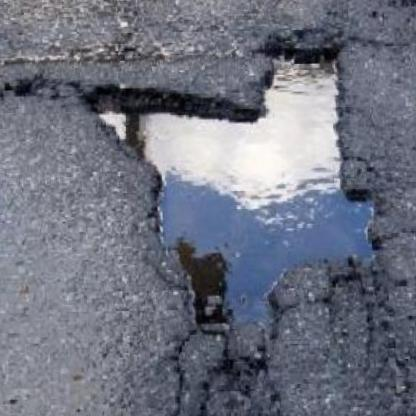pothole: (78, 27, 387, 350)
